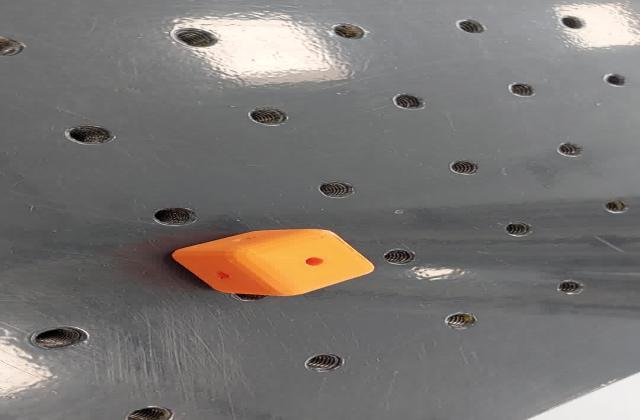cube: (162, 227, 380, 300)
